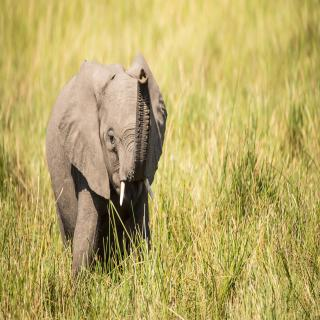Elephant: (43, 54, 171, 283)
